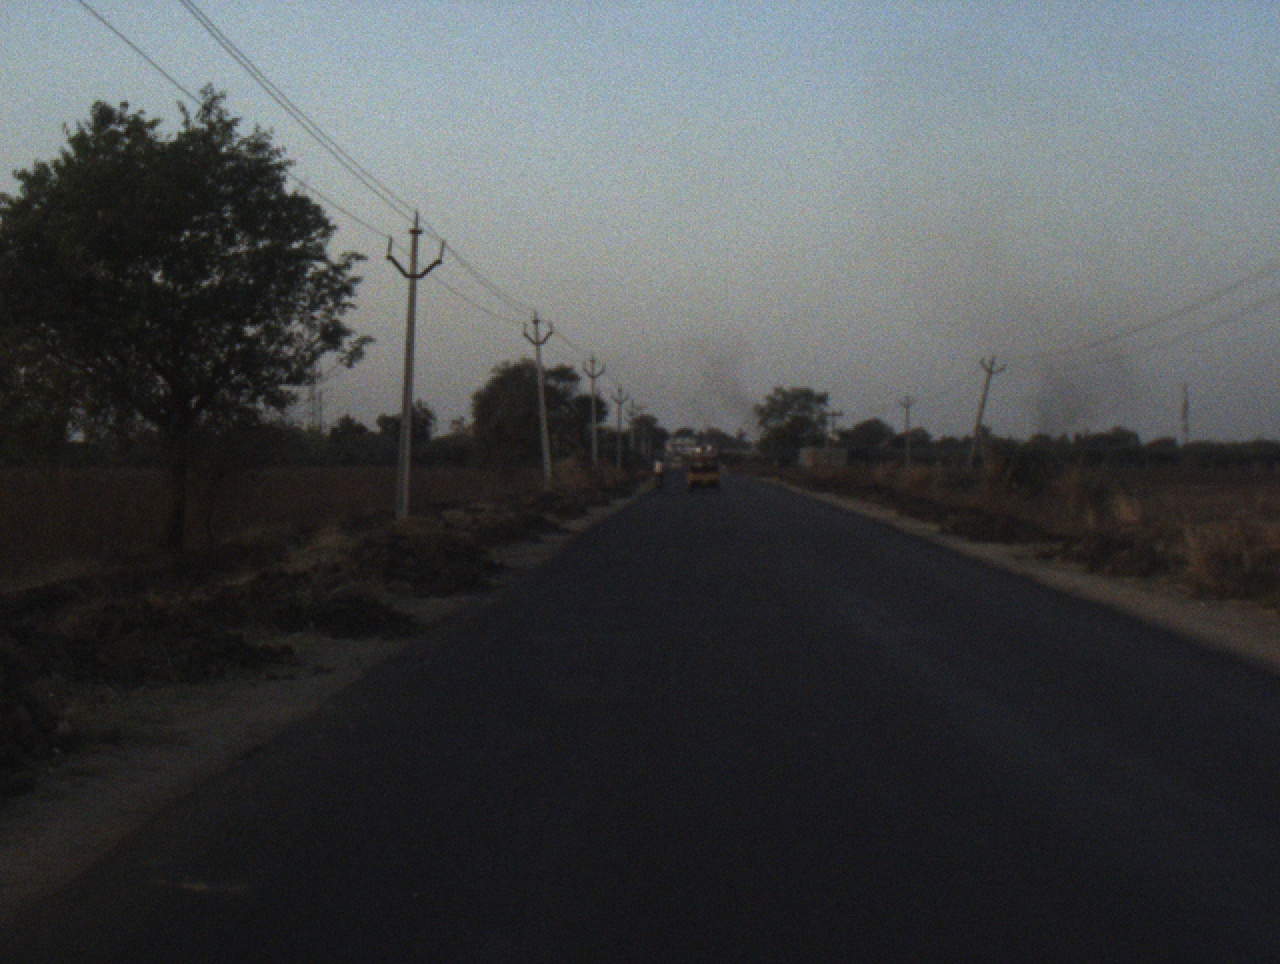autorickshaw: (688, 448, 721, 492)
bicycle: (654, 473, 666, 492)
rider: (651, 457, 665, 485)
vehicle fallback: (669, 452, 684, 474)
